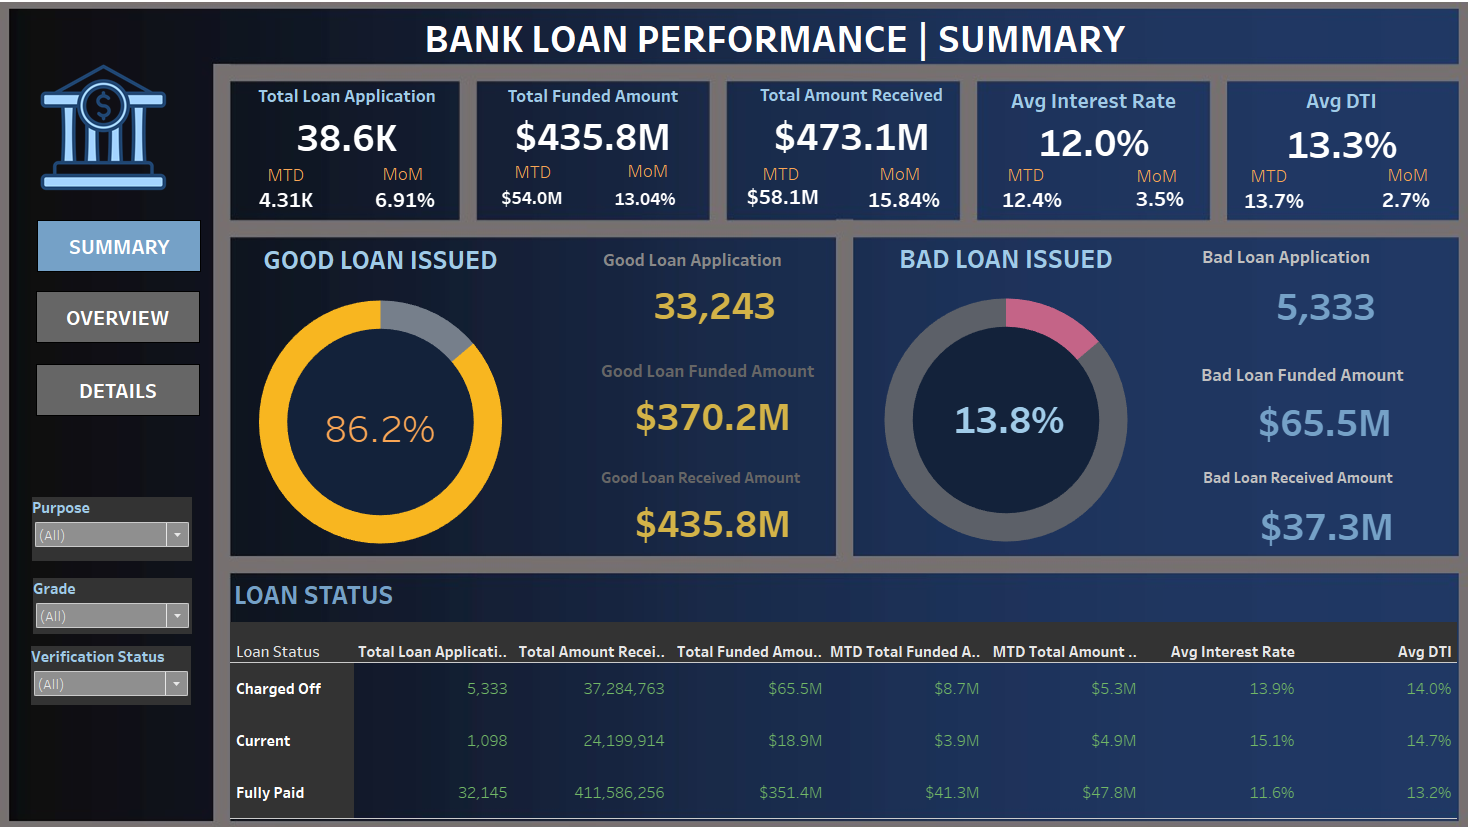

What the dashboard file says about the page in this screenshot:
{"tool":"tableau","page":{"name":"SUMMARY","canvas":[1500,850],"ordinal":2},"visuals":[{"type":"image","param":"C:/Users/Jay/Downloads/Tableau Background 1.jpg","box":[8,8,1484,834]},{"type":"text","box":[437,22,762,49]},{"type":"image","param":"C:/Users/Jay/Desktop/2_Project/Data Visualization in Tableau-Udacity/Bank Loan P","box":[54,72,153,130]},{"type":"worksheet","title":"Total Amount Received","mark":"Automatic","box":[744,89,247,74]},{"type":"worksheet","title":"Total Loan Application","mark":"Automatic","box":[246,90,234,74]},{"type":"worksheet","title":"Total Funded Amount","mark":"Automatic","box":[493,90,232,72]},{"type":"worksheet","title":"Avg Interest Rate","mark":"Automatic","box":[992,92,235,76]},{"type":"worksheet","title":"Avg DTI","mark":"Automatic","box":[1242,92,231,79]},{"type":"text","box":[640,168,48,24]},{"type":"text","box":[395,171,48,24]},{"type":"text","box":[892,171,48,24]},{"type":"text","box":[527,172,47,19]},{"type":"text","box":[1400,172,48,24]},{"type":"text","box":[1149,173,48,24]},{"type":"text","box":[775,174,47,19]},{"type":"text","box":[280,175,47,19]},{"type":"text","box":[1020,175,47,19]},{"type":"text","box":[1263,176,47,19]},{"type":"worksheet","title":"MTD Total Funded Amount","mark":"Automatic","box":[500,183,96,47]},{"type":"worksheet","title":"MoM Total Funded Amount","mark":"Automatic","box":[610,183,102,49]},{"type":"worksheet","title":"MTD Total Loan Application","mark":"Automatic","box":[262,189,80,40]},{"type":"worksheet","title":"MTD Total Received Amount","mark":"Automatic","box":[758,189,82,33]},{"type":"worksheet","title":"MoM Avg DTI","mark":"Automatic","box":[1383,189,78,40]},{"type":"worksheet","title":"MoM Received Amount","mark":"Automatic","box":[879,192,81,34]},{"type":"worksheet","title":"MoM Avg Interest","mark":"Automatic","box":[1137,192,78,32]},{"type":"worksheet","title":"MTD Avg  DTI","mark":"Automatic","box":[1245,192,90,36]},{"type":"worksheet","title":"MoM Loan Application","mark":"Automatic","box":[377,193,87,31]},{"type":"worksheet","title":"MTD Avg Interest","mark":"Automatic","box":[1008,194,79,30]},{"type":"dashboard-object","box":[53,230,164,52]},{"type":"worksheet","title":"Bad Loan Issued","mark":"Pie","rows":["Calculation_2279665900506279958","Calculation_2279665900506279958"],"box":[869,247,306,317]},{"type":"worksheet","title":"Bad Loan Application","mark":"Automatic","box":[1210,247,264,97]},{"type":"worksheet","title":"Good Loan Issued","mark":"Pie","rows":["Calculation_2279665900506279958","Calculation_2279665900506279958"],"box":[247,248,299,319]},{"type":"worksheet","title":"Good Loan Application","mark":"Automatic","box":[611,250,240,89]},{"type":"dashboard-object","box":[52,301,164,52]},{"type":"worksheet","title":"Good Loan %","mark":"Automatic","box":[322,361,147,151]},{"type":"worksheet","title":"Good Loan FundED Amount","mark":"Automatic","box":[609,361,240,89]},{"type":"worksheet","title":"Bad Loan Funded Amount","mark":"Automatic","box":[1209,365,264,94]},{"type":"dashboard-object","box":[52,374,164,52]},{"type":"worksheet","title":"Bad Loan %","mark":"Automatic","box":[943,377,163,101]},{"type":"worksheet","title":"Good Loan Received Amount","mark":"Automatic","box":[609,469,240,89]},{"type":"worksheet","title":"Bad Loan Received Amount","mark":"Automatic","box":[1211,469,264,96]},{"type":"filter","title":"Good Loan Issued","param":"[federated.0mfh5rp1uvokj7133s2b20uocadv].[none:purpose:nk]","box":[48,507,160,64]},{"type":"worksheet","title":"Loan Status","mark":"Automatic","rows":["loan_status"],"box":[246,583,1227,246]},{"type":"filter","title":"Good Loan Issued","param":"[federated.0mfh5rp1uvokj7133s2b20uocadv].[none:grade:nk]","box":[49,588,159,56]},{"type":"filter","title":"Good Loan Issued","param":"[federated.0mfh5rp1uvokj7133s2b20uocadv].[none:verification_status:nk]","box":[47,656,160,59]}]}

Visuals, with their boxes in screenshot pixels (x1, y1, x2, y2), scaled from the page's 1500x850 canvas onto the 1469x827 screenshot:
image: (x1=8, y1=8, x2=1461, y2=819)
text: (x1=428, y1=21, x2=1174, y2=69)
image: (x1=53, y1=70, x2=203, y2=197)
"Total Amount Received" worksheet: (x1=729, y1=87, x2=971, y2=159)
"Total Loan Application" worksheet: (x1=241, y1=88, x2=470, y2=160)
"Total Funded Amount" worksheet: (x1=483, y1=88, x2=710, y2=158)
"Avg Interest Rate" worksheet: (x1=971, y1=90, x2=1202, y2=163)
"Avg DTI" worksheet: (x1=1216, y1=90, x2=1443, y2=166)
text: (x1=627, y1=163, x2=674, y2=187)
text: (x1=387, y1=166, x2=434, y2=190)
text: (x1=874, y1=166, x2=921, y2=190)
text: (x1=516, y1=167, x2=562, y2=186)
text: (x1=1371, y1=167, x2=1418, y2=191)
text: (x1=1125, y1=168, x2=1172, y2=192)
text: (x1=759, y1=169, x2=805, y2=188)
text: (x1=274, y1=170, x2=320, y2=189)
text: (x1=999, y1=170, x2=1045, y2=189)
text: (x1=1237, y1=171, x2=1283, y2=190)
"MTD Total Funded Amount" worksheet: (x1=490, y1=178, x2=584, y2=224)
"MoM Total Funded Amount" worksheet: (x1=597, y1=178, x2=697, y2=226)
"MTD Total Loan Application" worksheet: (x1=257, y1=184, x2=335, y2=223)
"MTD Total Received Amount" worksheet: (x1=742, y1=184, x2=823, y2=216)
"MoM Avg DTI" worksheet: (x1=1354, y1=184, x2=1431, y2=223)
"MoM Received Amount" worksheet: (x1=861, y1=187, x2=940, y2=220)
"MoM Avg Interest" worksheet: (x1=1114, y1=187, x2=1190, y2=218)
"MTD Avg  DTI" worksheet: (x1=1219, y1=187, x2=1307, y2=222)
"MoM Loan Application" worksheet: (x1=369, y1=188, x2=454, y2=218)
"MTD Avg Interest" worksheet: (x1=987, y1=189, x2=1065, y2=218)
dashboard-object: (x1=52, y1=224, x2=213, y2=274)
"Bad Loan Issued" worksheet (Pie marks): (x1=851, y1=240, x2=1151, y2=549)
"Bad Loan Application" worksheet: (x1=1185, y1=240, x2=1444, y2=335)
"Good Loan Issued" worksheet (Pie marks): (x1=242, y1=241, x2=535, y2=552)
"Good Loan Application" worksheet: (x1=598, y1=243, x2=833, y2=330)
dashboard-object: (x1=51, y1=293, x2=212, y2=343)
"Good Loan %" worksheet: (x1=315, y1=351, x2=459, y2=498)
"Good Loan FundED Amount" worksheet: (x1=596, y1=351, x2=831, y2=438)
"Bad Loan Funded Amount" worksheet: (x1=1184, y1=355, x2=1443, y2=447)
dashboard-object: (x1=51, y1=364, x2=212, y2=414)
"Bad Loan %" worksheet: (x1=924, y1=367, x2=1083, y2=465)
"Good Loan Received Amount" worksheet: (x1=596, y1=456, x2=831, y2=543)
"Bad Loan Received Amount" worksheet: (x1=1186, y1=456, x2=1445, y2=550)
"Good Loan Issued" filter: (x1=47, y1=493, x2=204, y2=556)
"Loan Status" worksheet: (x1=241, y1=567, x2=1443, y2=807)
"Good Loan Issued" filter: (x1=48, y1=572, x2=204, y2=627)
"Good Loan Issued" filter: (x1=46, y1=638, x2=203, y2=696)
